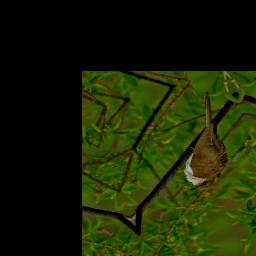Cuckoo: (150, 90, 250, 194)
